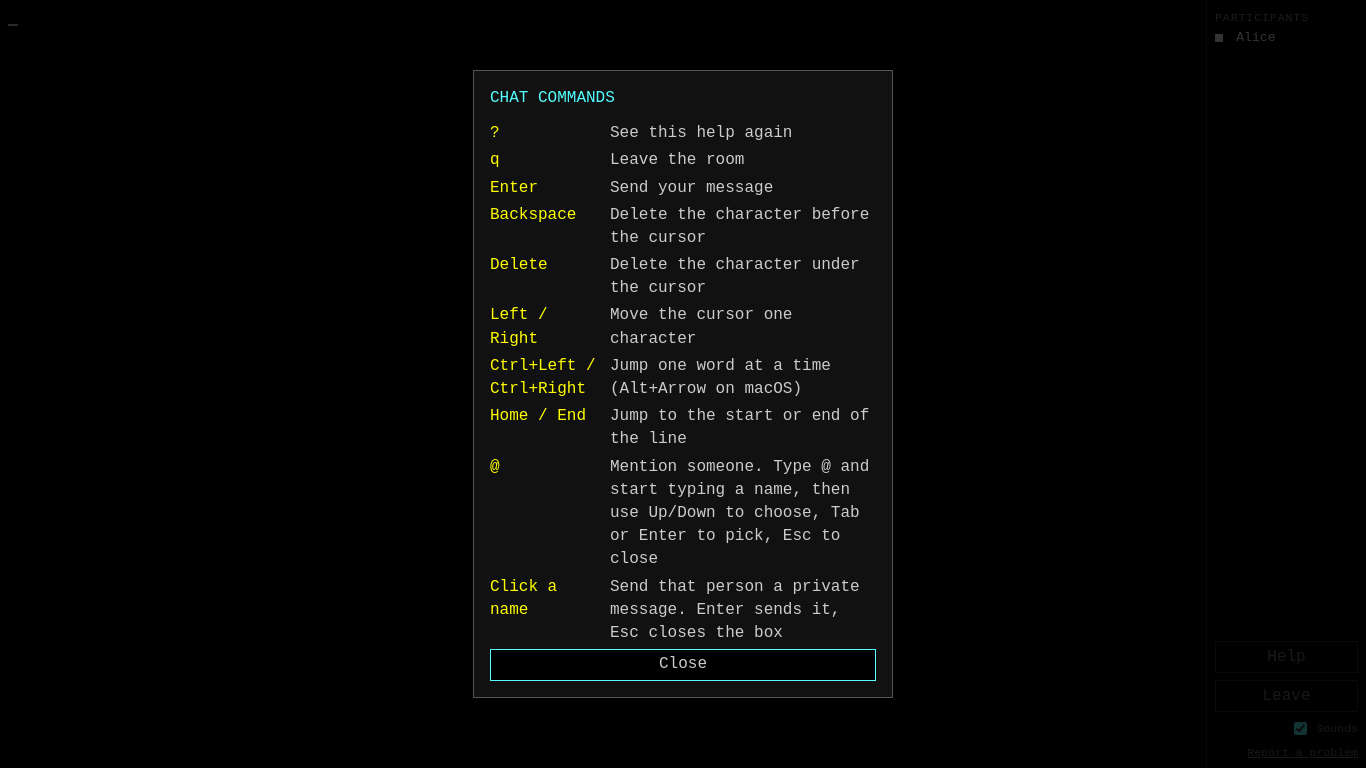
Rendering from server state › a help command from the server opens the overlay; Close dismisses it
This screenshot has width=1366, height=768.
Check: the dialog "help" is shown, box [473,70,893,698]
Click the button "Close" at {"x": 683, "y": 665}, box [490,649,876,681]
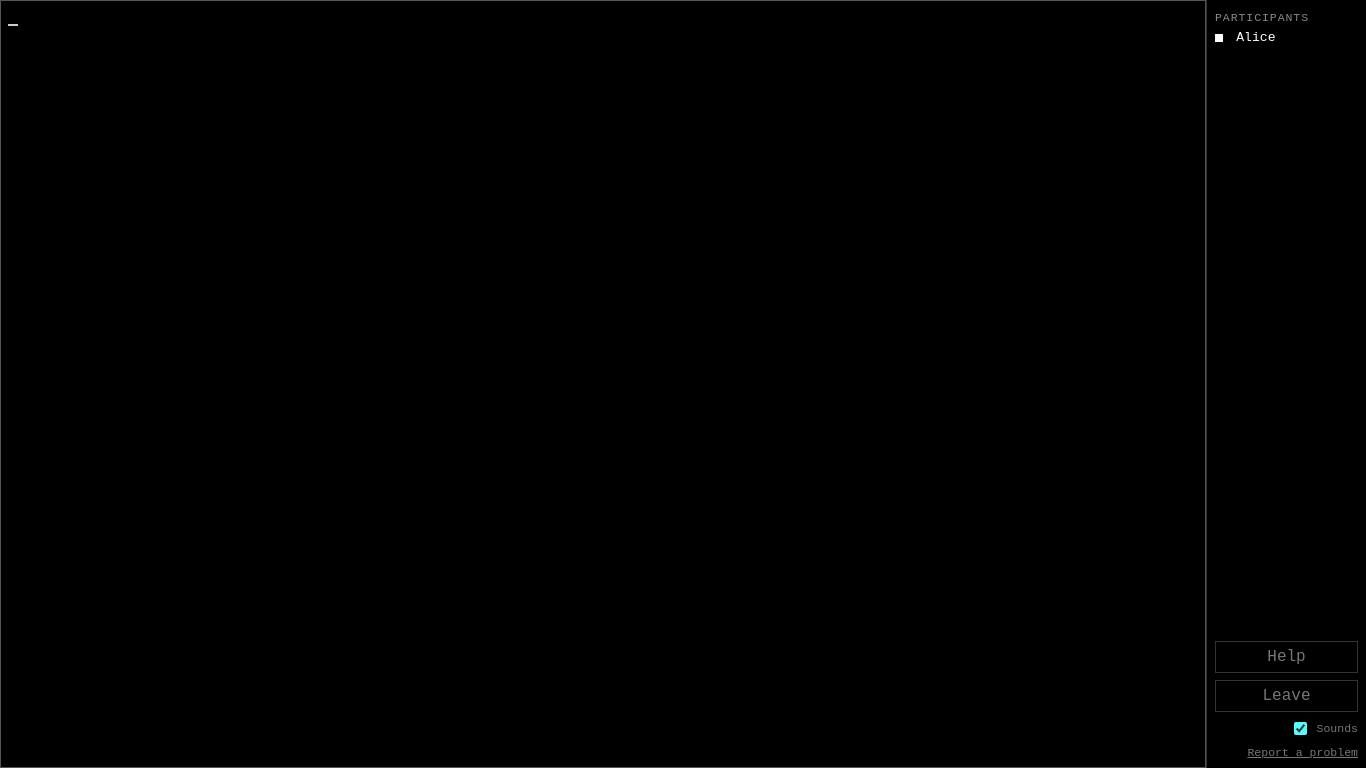
Check: the dialog is gone
